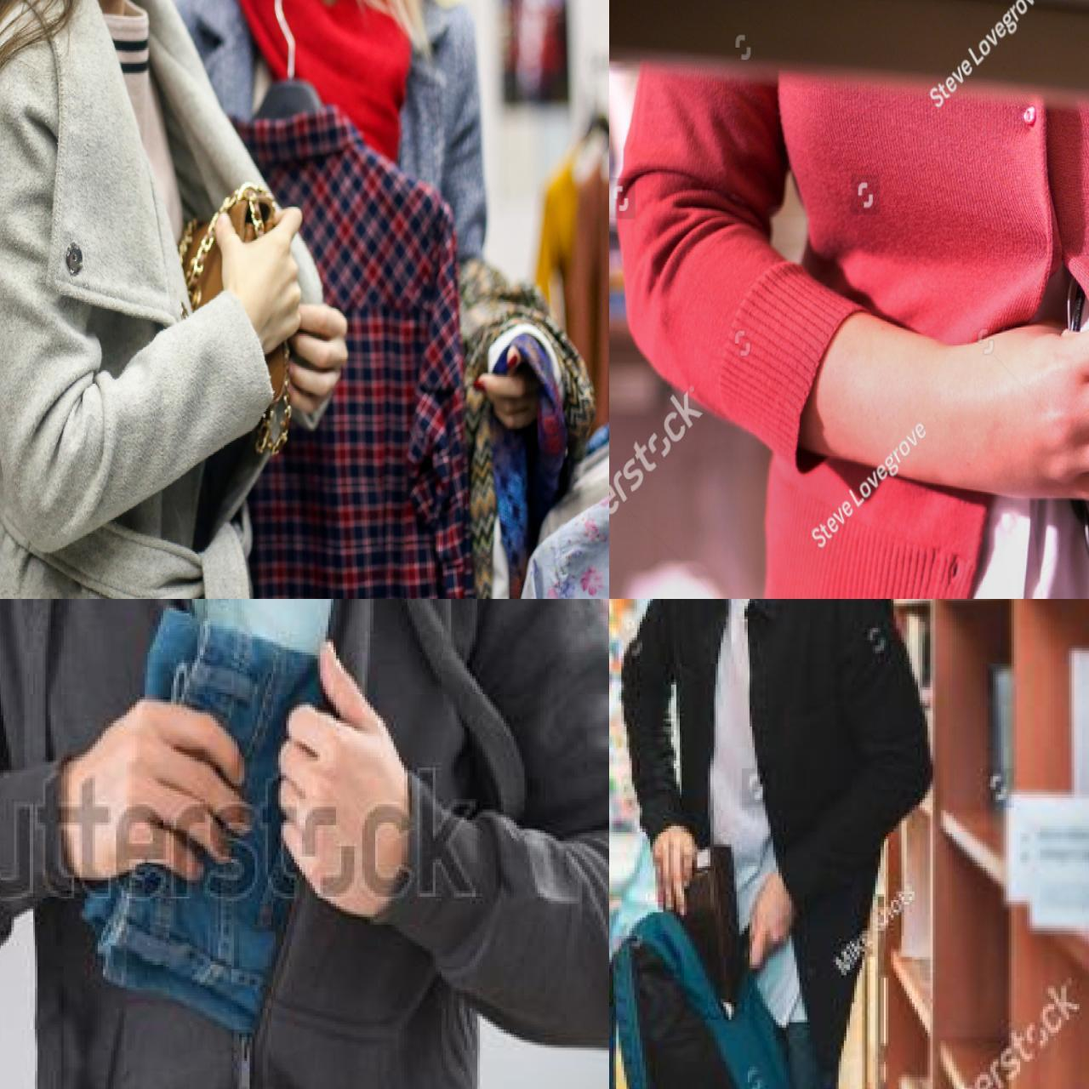shoplifting: (0, 601, 607, 1089), (0, 105, 475, 587), (614, 642, 1086, 1089)
